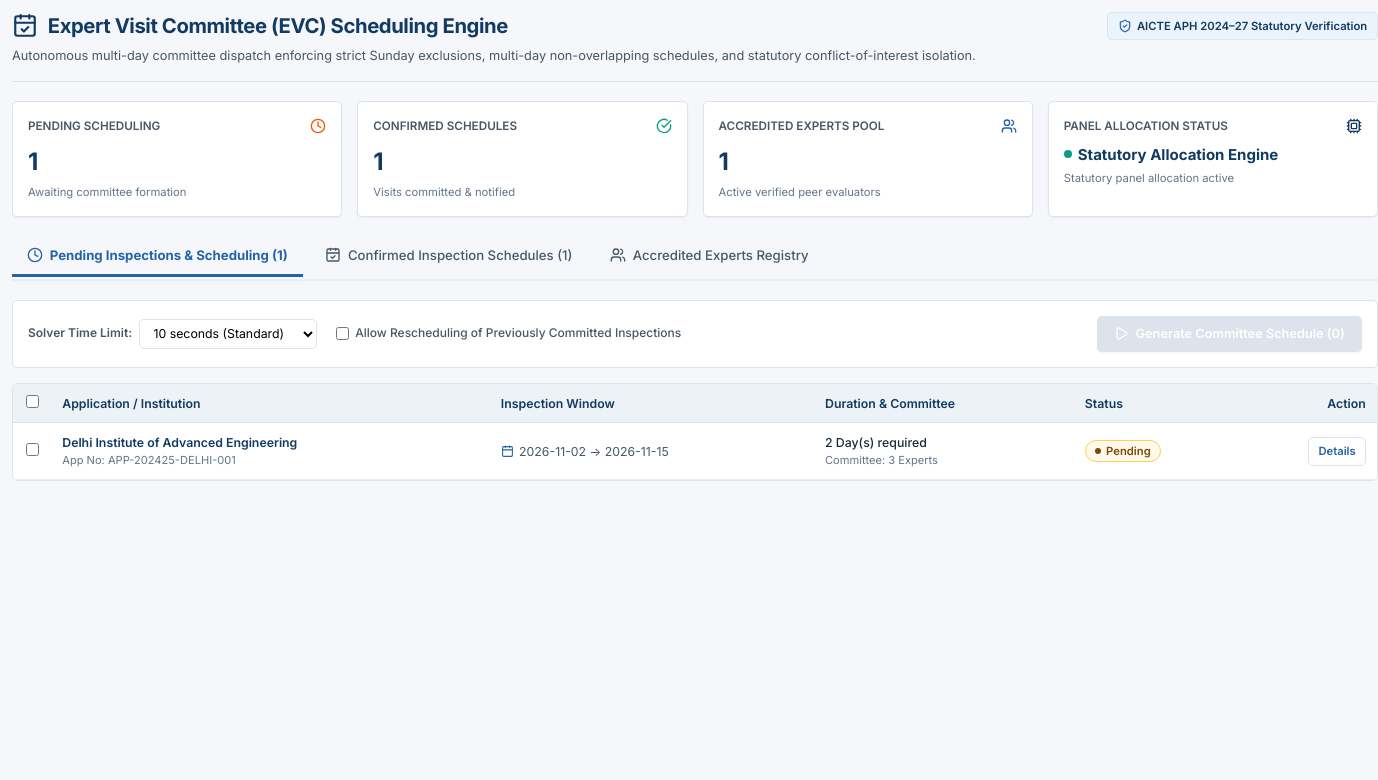
Test: EVC Scheduling Engine Frontend Workflow › displays infeasible explanation banner when CP-SAT solver cannot find a valid schedule
Expected: the text "Delhi Institute of Advanced Engineering" is shown, [62,435,297,450]
Step 1. Click the checkbox named "Select all pending inspections" → (32, 401), box [26,395,38,408]
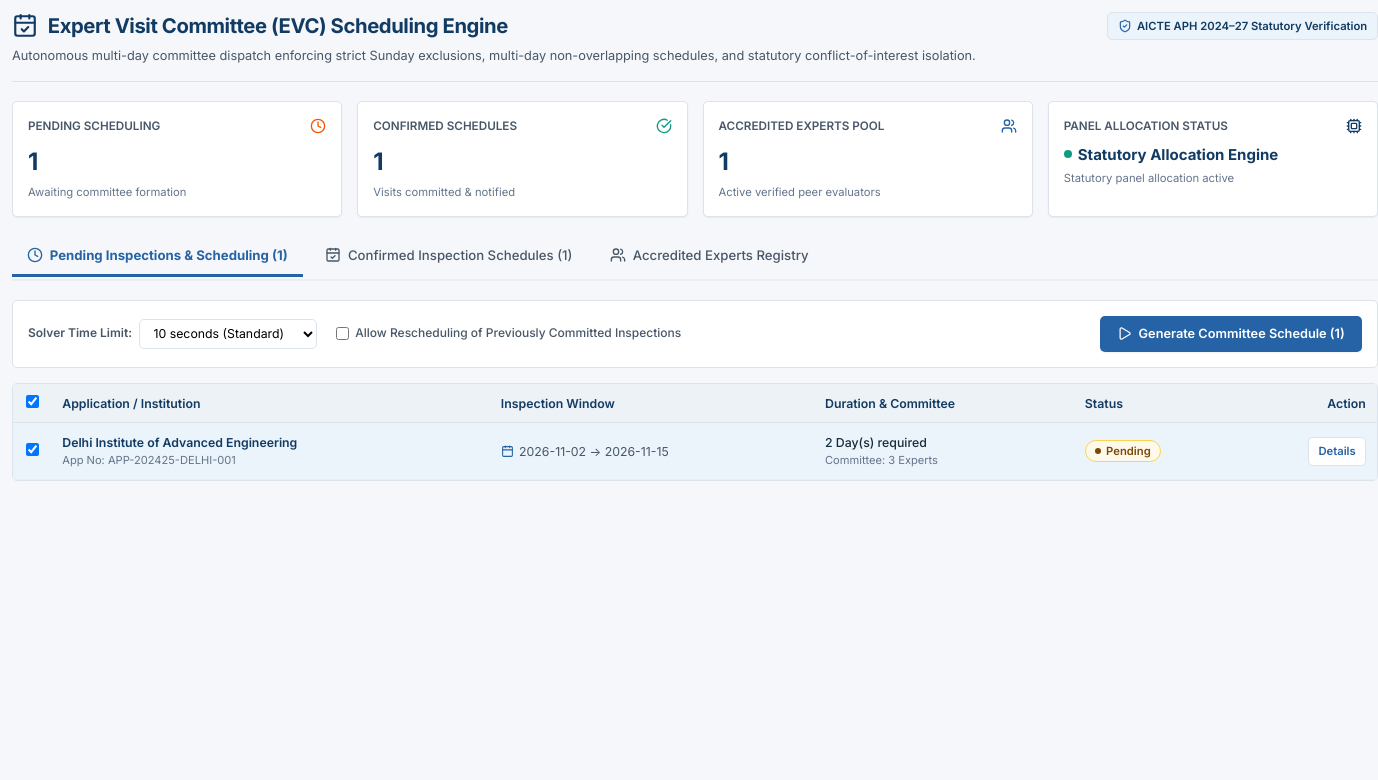
Step 2. Click the button "Generate Committee Schedule (1)" → (1231, 334), box [1100,316,1362,352]
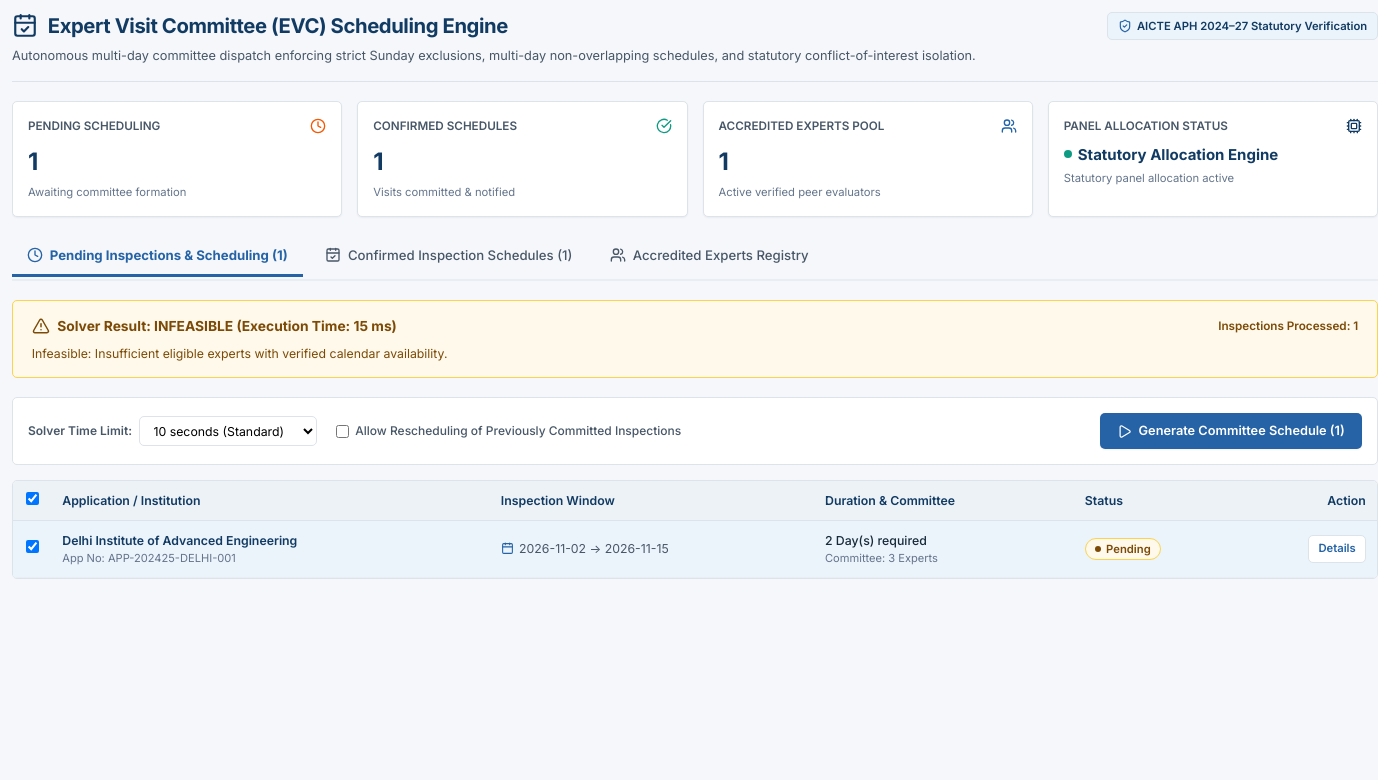
Result: the text "Solver Result: INFEASIBLE (Execution Time: 15 ms)" is shown at [57,316,397,337]
Result: the text "Insufficient eligible experts with verified calendar availability" is shown at [32,346,448,360]
